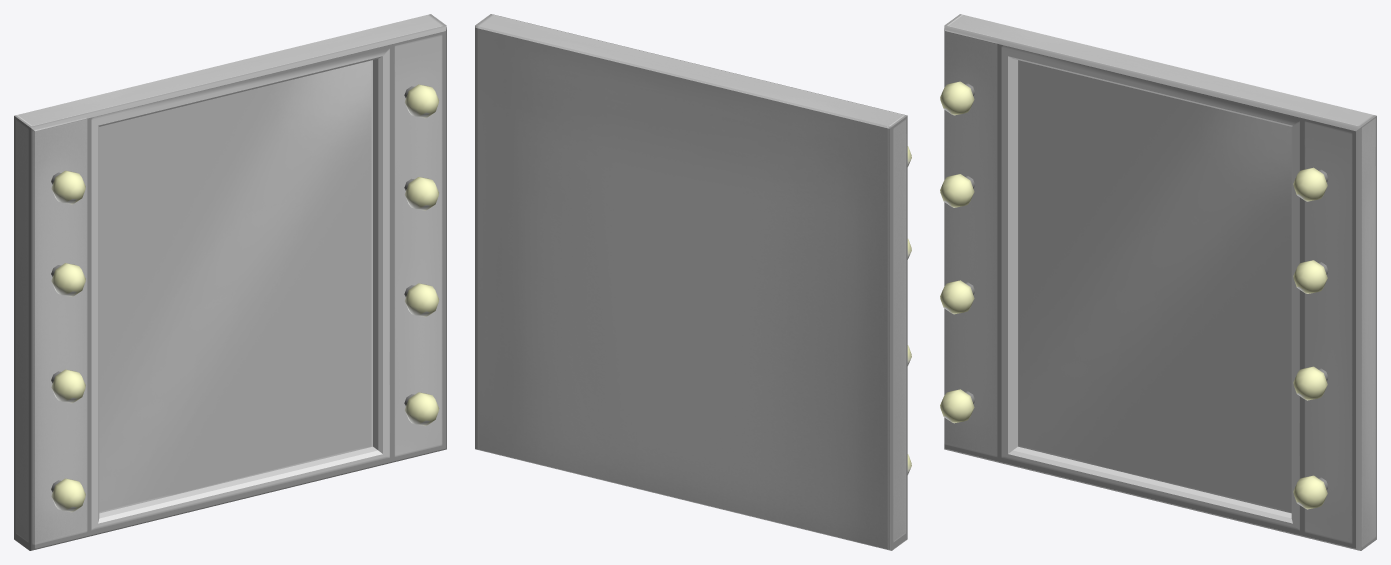
File: Mirror.fbx
3 views of the same model, side by side, from view 1: azimuth 30°, elevation 25°; view 2: azimuth 150°, elevation 25°; view 3: azimuth 330°, elevation 25° (orthographic).
Visible parts, largest first — view 1: Mirror; view 2: Mirror; view 3: Mirror.
Boxes of the visible parts, <box> form: Mirror: <box>14,14,446,550</box>; Mirror: <box>475,14,911,550</box>; Mirror: <box>940,14,1376,550</box>.
Size of the model in its own units: 7.24 by 7.03 by 1.15.
